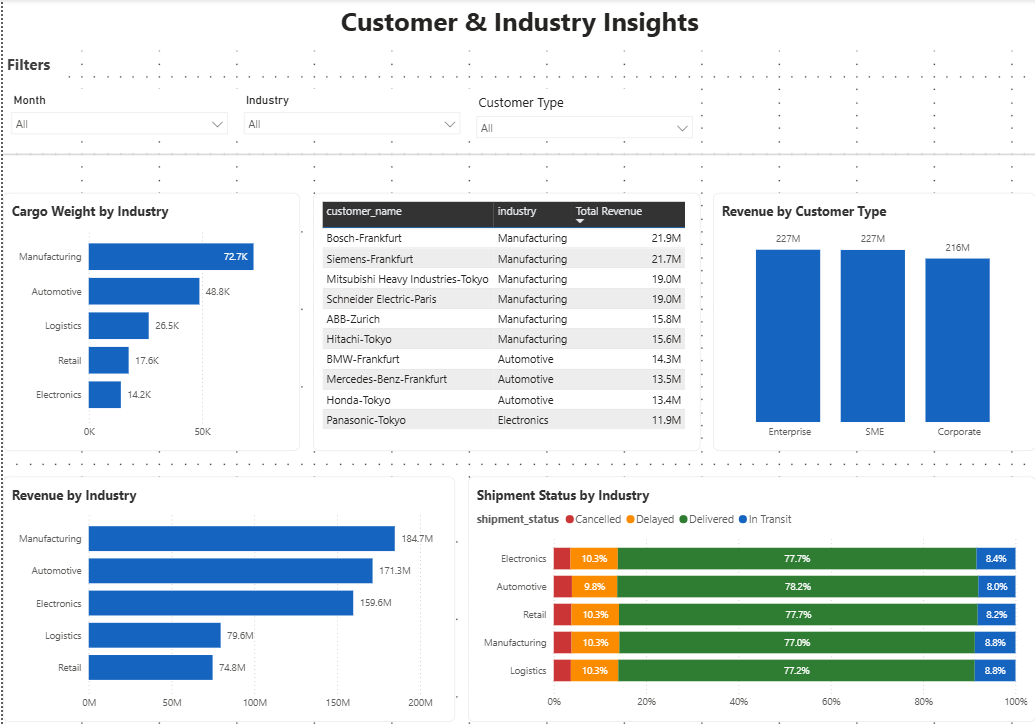

This screenshot's page, from the dashboard's own definition file:
{"tool":"powerbi","page":{"name":"Business Insight","canvas":[1280,900],"ordinal":1},"visuals":[{"type":"slicer","fields":{"Values":["warehouse dim_customer.industry"]},"box":[288,112,288,64],"z":0},{"type":"slicer","fields":{"Values":["warehouse dim_customer.customer_type"]},"box":[576,112,288,64],"z":1000},{"type":"slicer","fields":{"Values":["warehouse dim_date.month_name"]},"box":[0,112,288,64],"z":2000},{"type":"clusteredBarChart","title":"Revenue by Industry","fields":{"Category":["warehouse dim_customer.industry"],"Y":["warehouse fact_shipments.Total Revenue"]},"box":[0,592,560,304],"z":3000},{"type":"columnChart","title":"Revenue by Customer Type","fields":{"Category":["warehouse dim_customer.customer_type"],"Y":["warehouse fact_shipments.Total Revenue"]},"box":[880,240,400,320],"z":4000},{"type":"tableEx","fields":{"Values":["warehouse dim_customer.customer_name","warehouse dim_customer.industry","warehouse fact_shipments.Total Revenue"]},"box":[384,240,480,320],"z":5000},{"type":"hundredPercentStackedBarChart","title":"Shipment Status by Industry","fields":{"Category":["warehouse dim_customer.industry"],"Y":["warehouse fact_shipments.Total Shipment"],"Series":["warehouse fact_shipments.shipment_status"]},"box":[576,592,704,304],"z":6000},{"type":"clusteredBarChart","title":"Cargo Weight by Industry","fields":{"Category":["warehouse dim_customer.industry"],"Y":["warehouse fact_shipments.Total Weight (Tonnes)"]},"box":[0,240,368,320],"z":7000},{"type":"textbox","box":[0,0,1280,64],"z":8000},{"type":"textbox","box":[0,64,80,48],"z":9000},{"type":"shape","box":[0,176,1280,32],"z":10000}]}

Visuals, with their boxes in screenshot pixels (x1, y1, x2, y2), scaled from the page's 1280x900 canvas onto the 1035x726 screenshot:
slicer - warehouse dim_customer.industry: x1=233, y1=90, x2=466, y2=142
slicer - warehouse dim_customer.customer_type: x1=466, y1=90, x2=699, y2=142
slicer - warehouse dim_date.month_name: x1=0, y1=90, x2=233, y2=142
"Revenue by Industry" clusteredBarChart: x1=0, y1=478, x2=453, y2=723
"Revenue by Customer Type" columnChart: x1=712, y1=194, x2=1034, y2=452
tableEx - warehouse dim_customer.customer_name x warehouse dim_customer.industry: x1=310, y1=194, x2=699, y2=452
"Shipment Status by Industry" hundredPercentStackedBarChart: x1=466, y1=478, x2=1034, y2=723
"Cargo Weight by Industry" clusteredBarChart: x1=0, y1=194, x2=298, y2=452
textbox: x1=0, y1=0, x2=1034, y2=52
textbox: x1=0, y1=52, x2=65, y2=90
shape: x1=0, y1=142, x2=1034, y2=168
